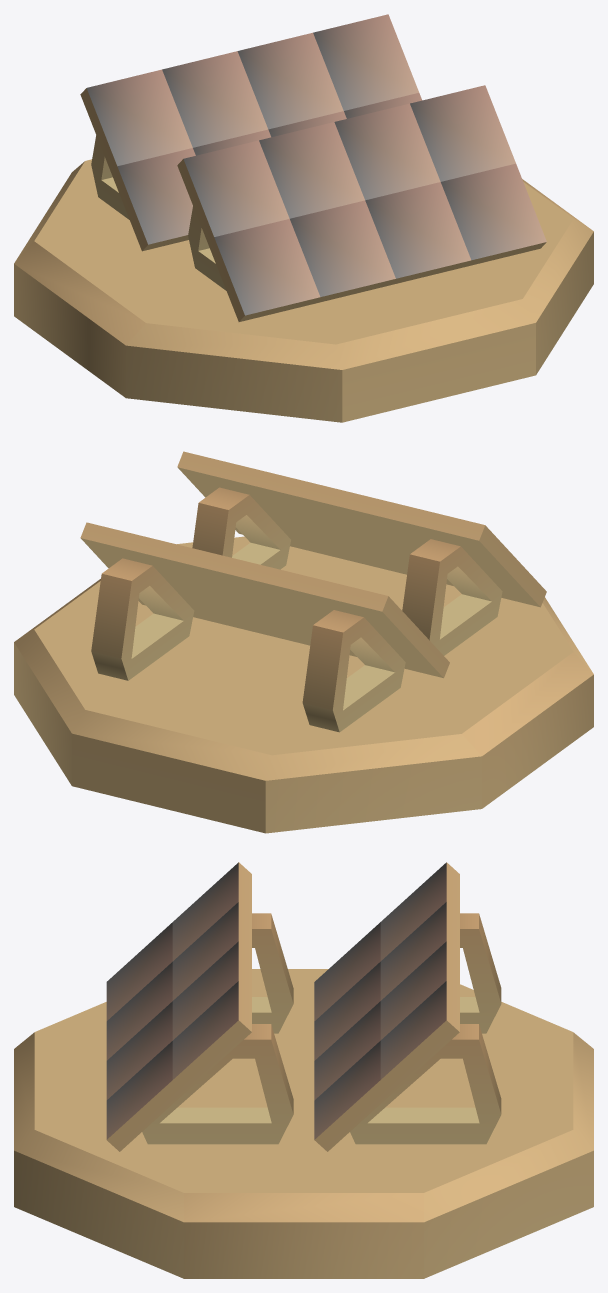
The model's file is uplink_dish.glb.
3 views of the same model, one above another, from view 1: azimuth 30°, elevation 25°; view 2: azimuth 150°, elevation 25°; view 3: azimuth 270°, elevation 25° (orthographic). The views are drawn at different scales.
Size of the model in its own units: 1.4 by 0.5709 by 1.4.
